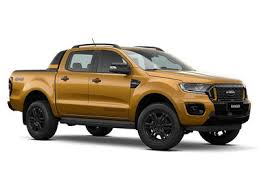Ford: (7, 40, 249, 150)
